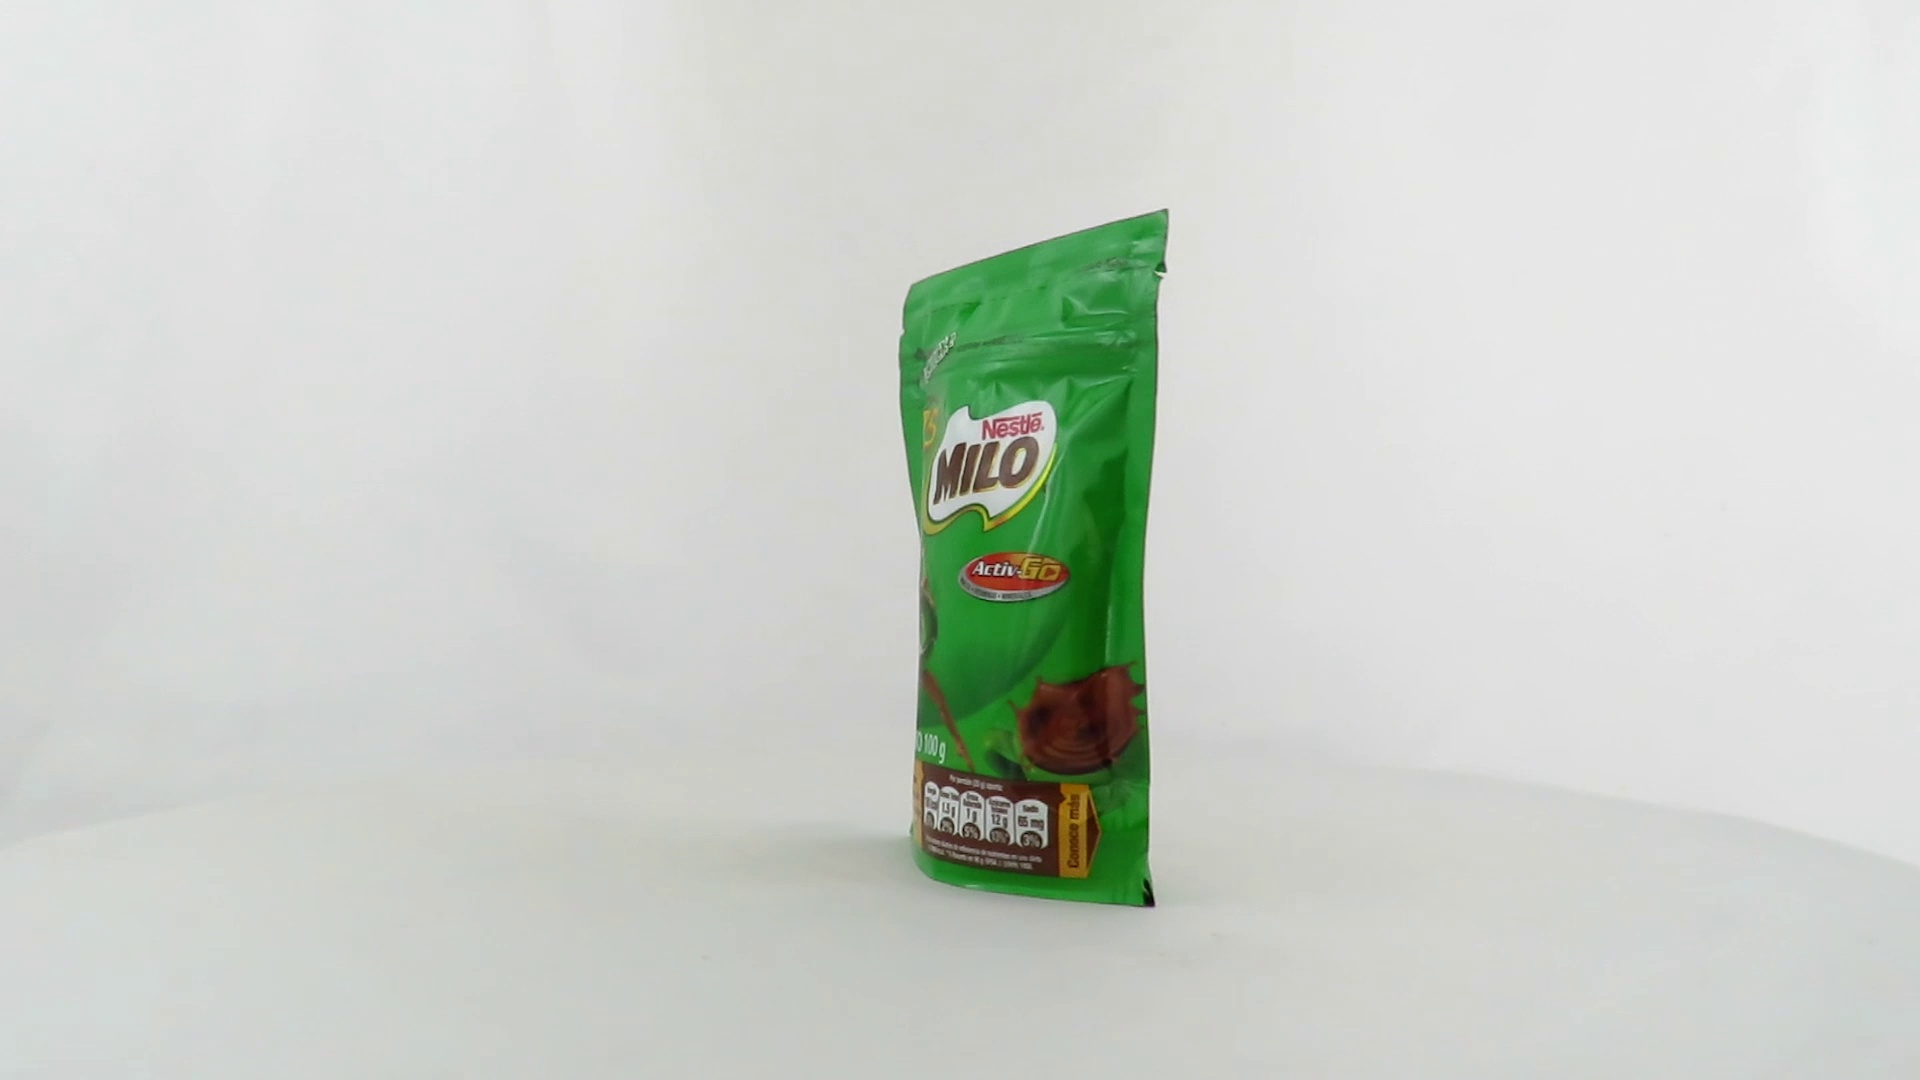COL0170203DYP10000: (814, 203, 1175, 914)
